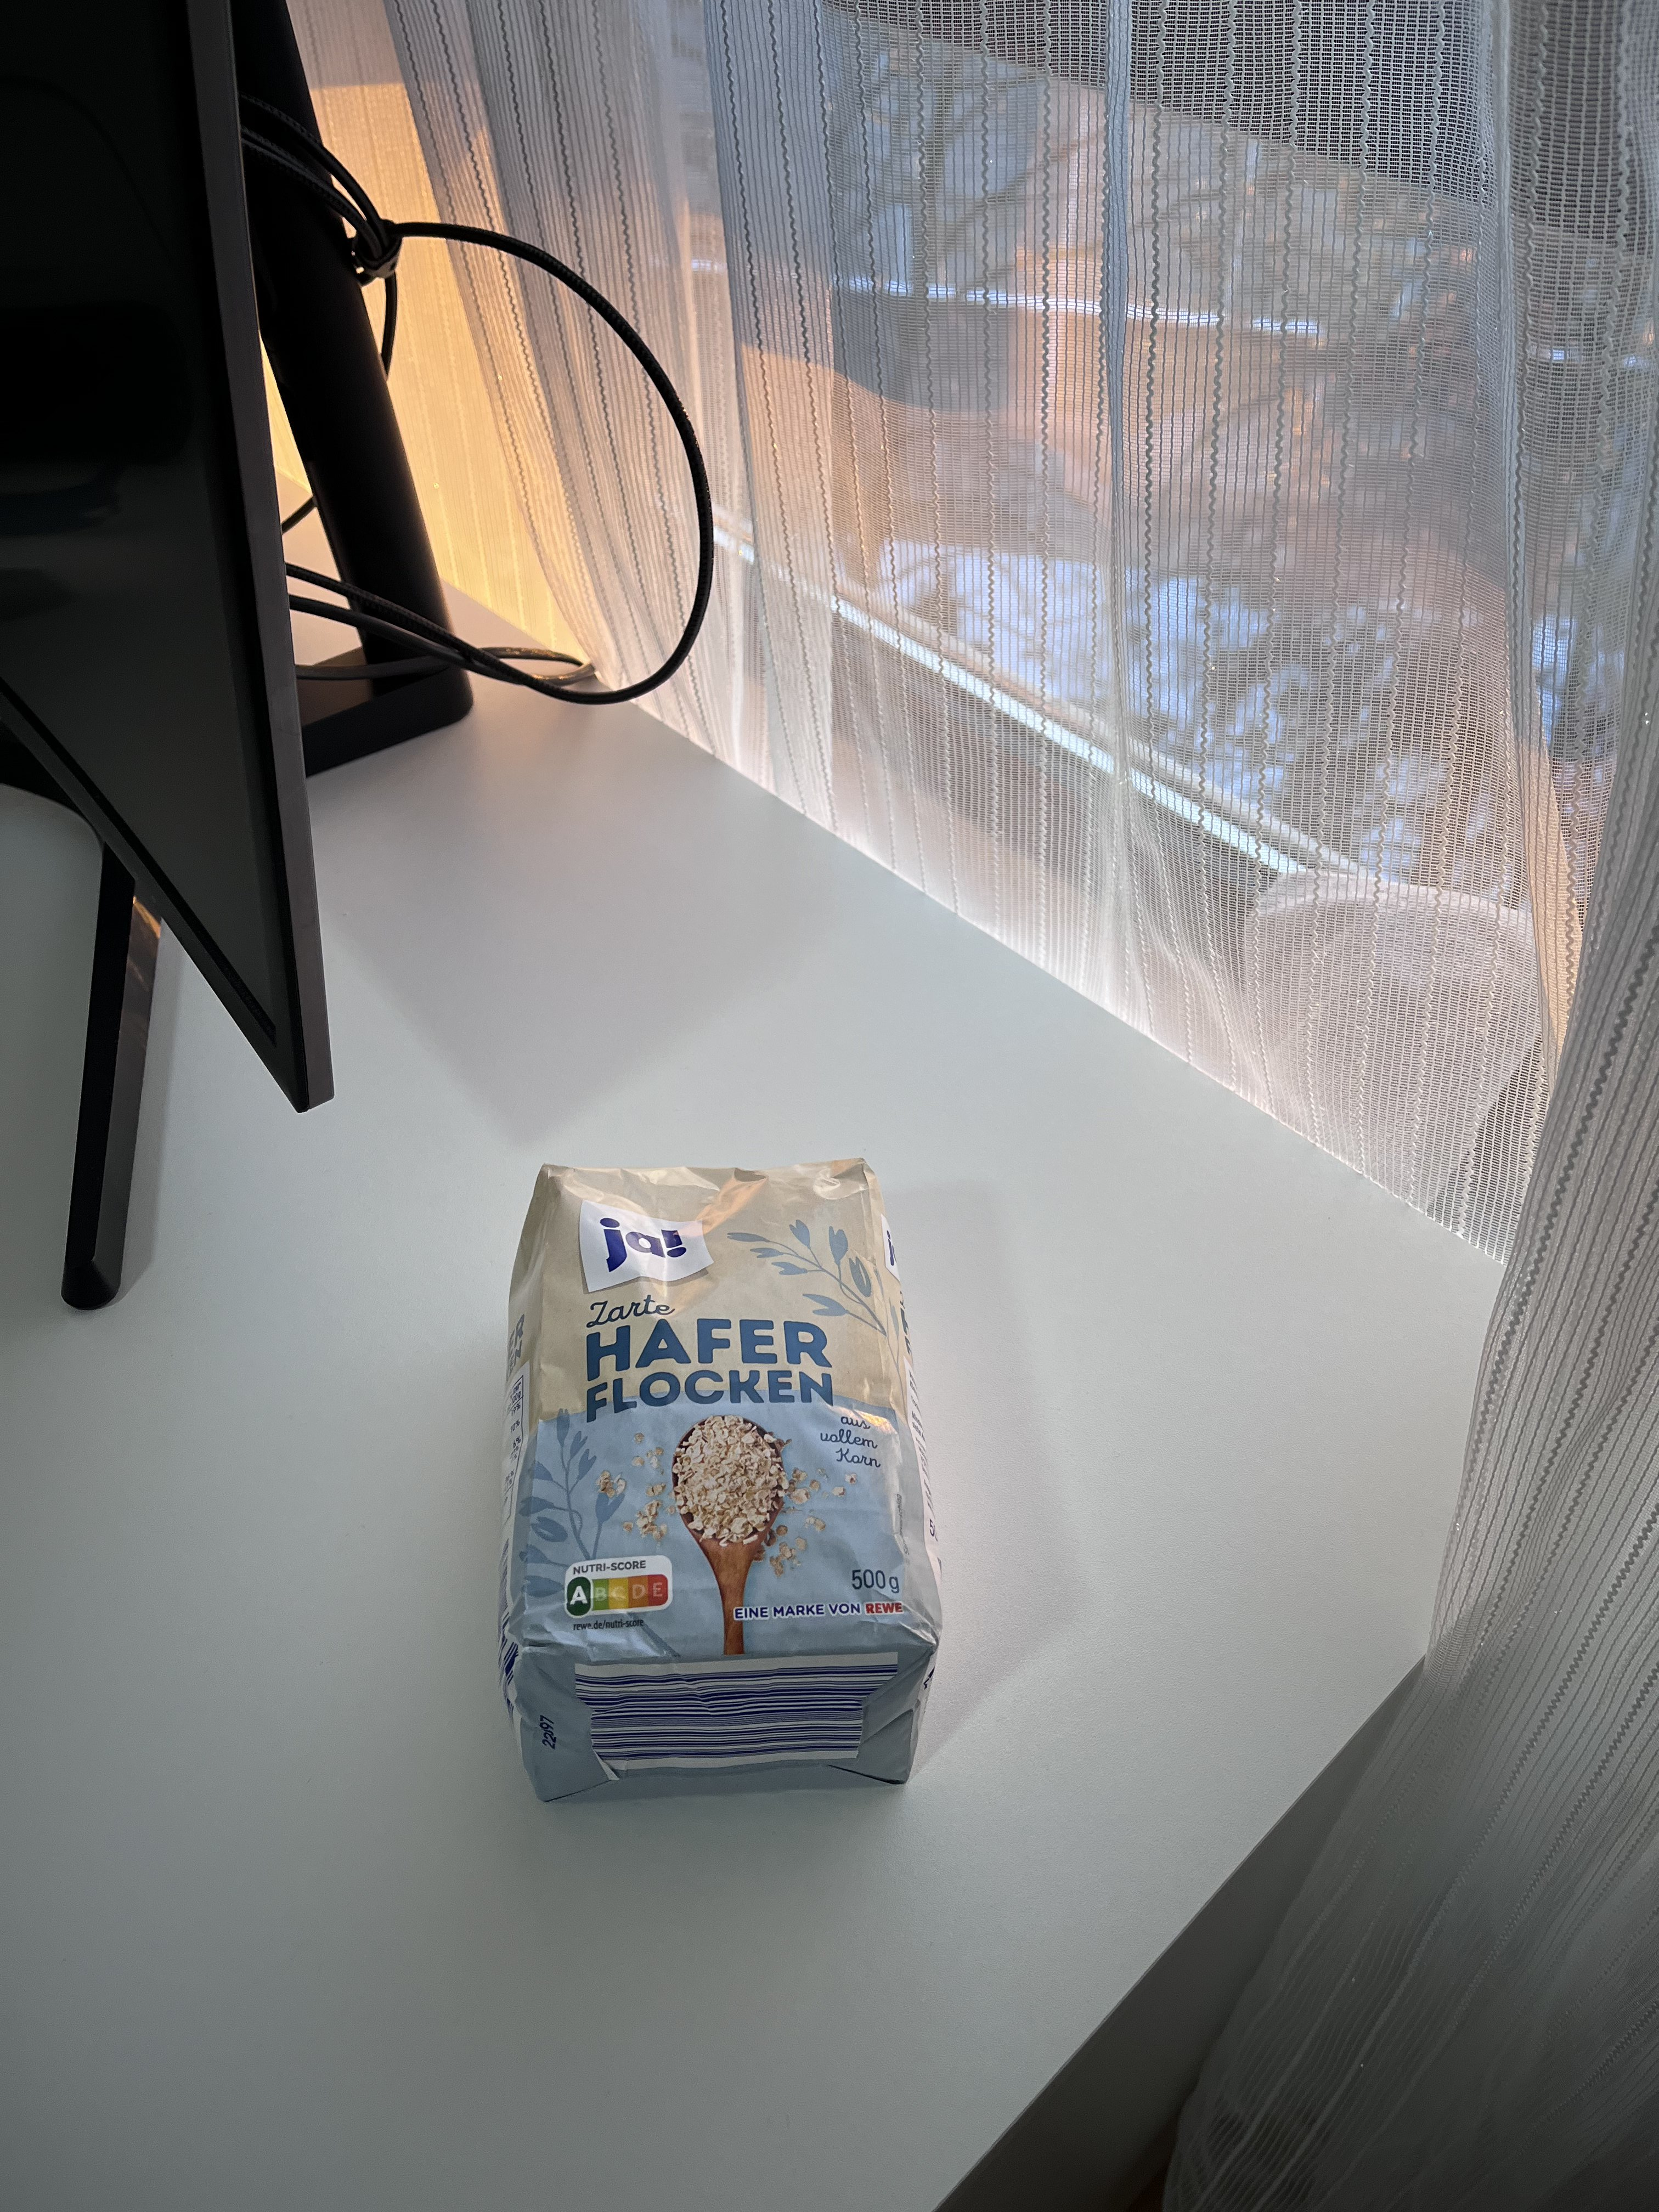haferflocken_ja: (498, 1139, 946, 1810)
